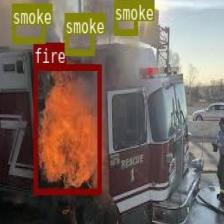fire: (33, 64, 101, 193)
smoke: (11, 3, 44, 42), (64, 12, 93, 55), (113, 0, 137, 34)
